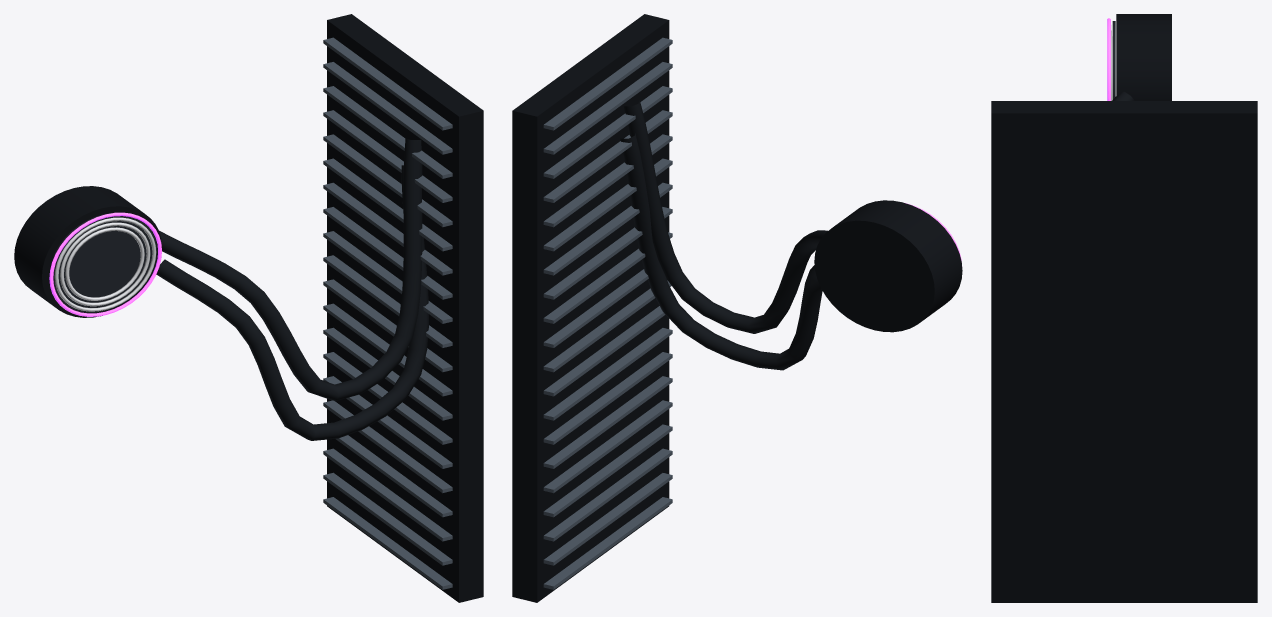
Rendered from pc-cooler.glb.
The picture shows the model from 3 angles, left to right: view 1: azimuth 30°, elevation 25°; view 2: azimuth 150°, elevation 25°; view 3: azimuth 270°, elevation 25°; orthographic projection.
Parts seen in each view (by area): view 1: cooler (×29); view 2: cooler (×24); view 3: cooler (×2).
Boxes of the visible parts, bbox=[...] form: cooler (×29): bbox=[14, 14, 483, 602]; cooler (×24): bbox=[512, 14, 962, 602]; cooler (×2): bbox=[991, 14, 1257, 602].
Bounding box in the file's own units: 2.88 × 3.52 × 1.73.
